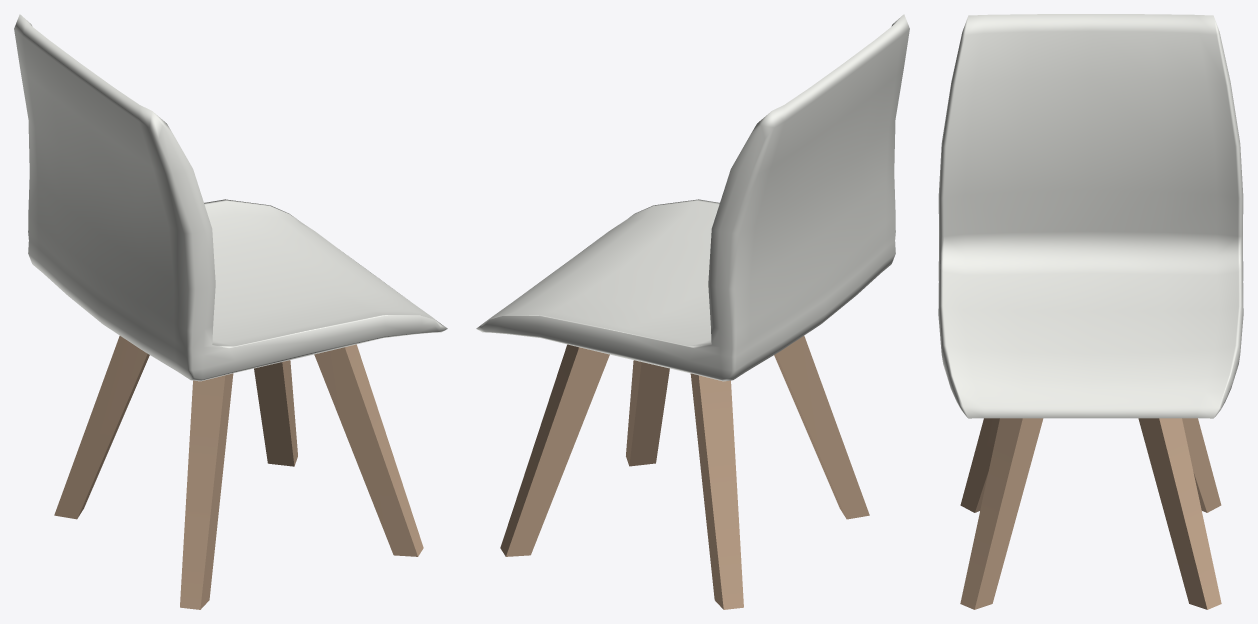
Rendered from diningChair_v01.fbx.
The picture shows the model from 3 angles, left to right: view 1: azimuth 30°, elevation 25°; view 2: azimuth 150°, elevation 25°; view 3: azimuth 270°, elevation 25°; orthographic projection. The views are drawn at different scales.
Parts seen in each view (by area): view 1: Chair; view 2: Chair; view 3: Chair.
Boxes of the visible parts, bbox=[...] form: Chair: bbox=[14, 14, 447, 609]; Chair: bbox=[476, 14, 909, 609]; Chair: bbox=[938, 14, 1243, 609].
Bounding box in the file's own units: 53.25 × 85.33 × 50.21.
